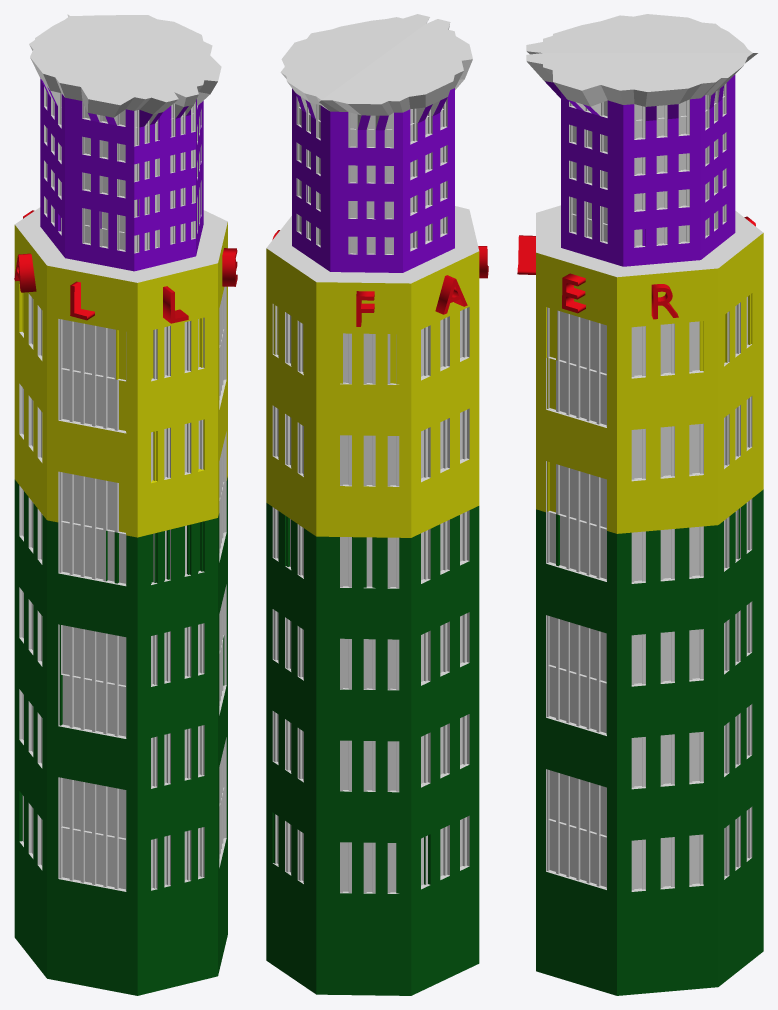
The model's file is faller_HQ.fbx.
3 renders of one model, left to right at view 1: azimuth 30°, elevation 25°; view 2: azimuth 150°, elevation 25°; view 3: azimuth 270°, elevation 25°, orthographic.
Parts seen in each view (by area): view 1: faller_hq, Text.001, Text.004, Text.003, Text.002; view 2: faller_hq, Text.001; view 3: faller_hq, Text.004, Text.003, Text.005.
Part boxes in pixels (<box>): faller_hq: <box>14,14,227,995</box>; Text.001: <box>14,253,36,292</box>; Text.004: <box>222,248,237,286</box>; Text.003: <box>163,286,188,323</box>; Text.002: <box>70,281,94,320</box>; faller_hq: <box>266,14,479,995</box>; Text.001: <box>435,275,467,314</box>; faller_hq: <box>526,14,763,995</box>; Text.004: <box>562,273,585,313</box>; Text.003: <box>517,235,535,274</box>; Text.005: <box>651,284,678,319</box>.
Bounding box in the file's own units: 224 × 1000 × 248.
